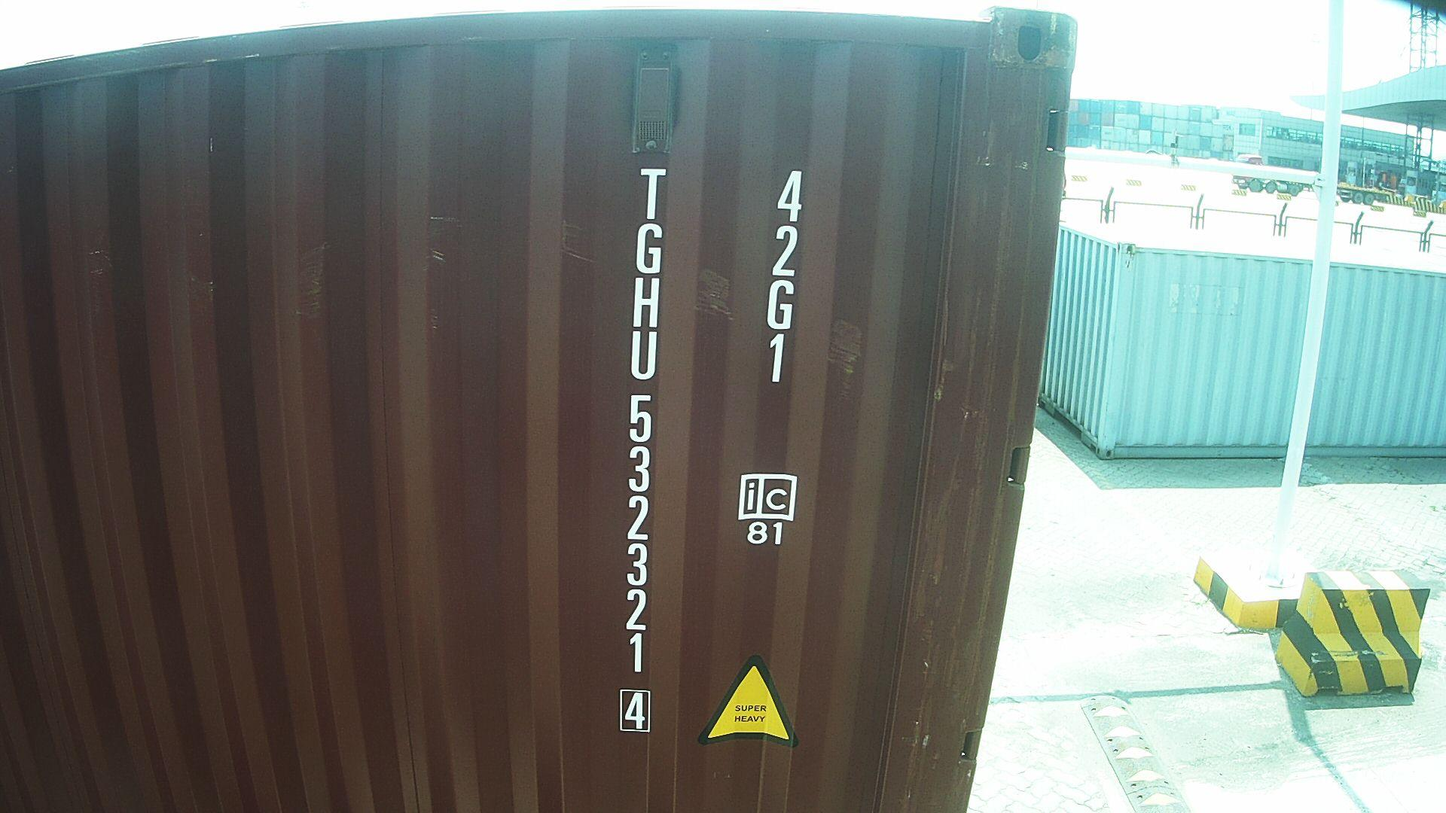container-numbers: (612, 165, 668, 739), (757, 165, 811, 391)
